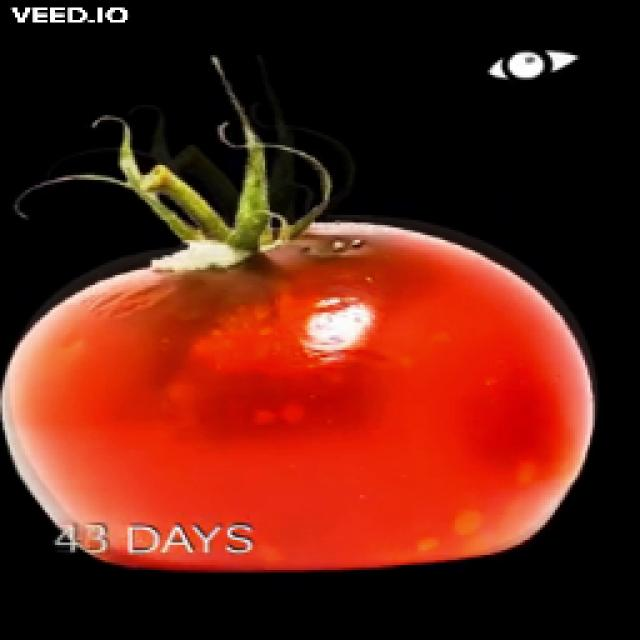overripe tomato: (0, 175, 596, 586)
